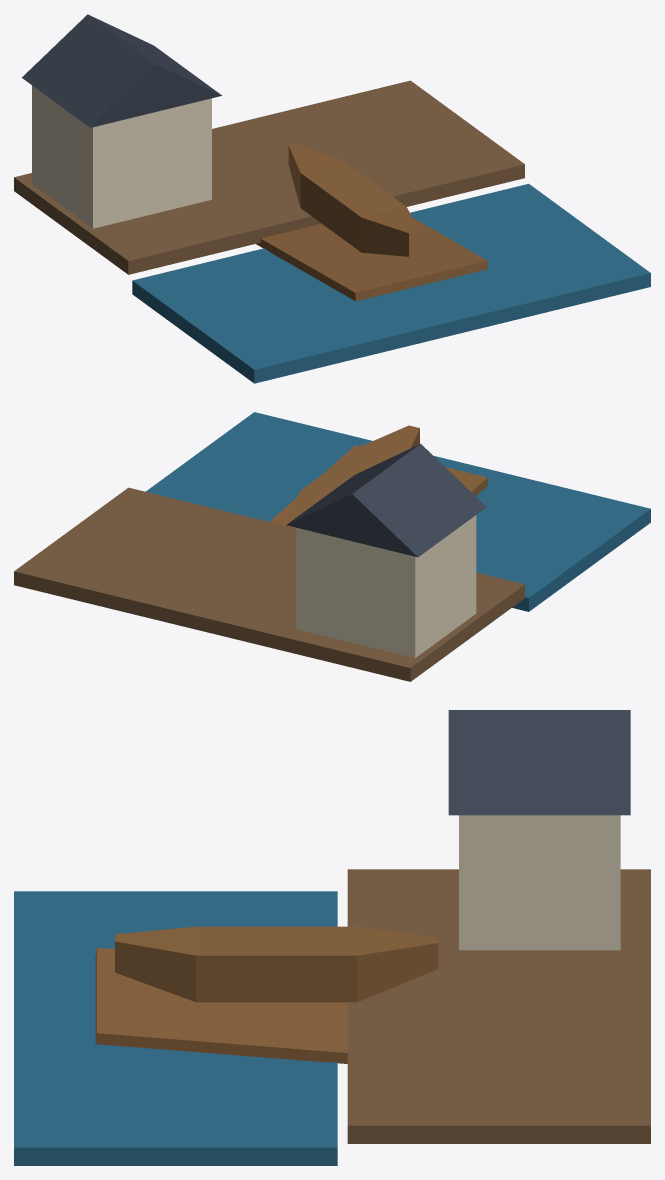
Rendered from bld_special_shipyard_a03_lod2.glb.
3 renders of one model, top to bottom at view 1: azimuth 30°, elevation 25°; view 2: azimuth 150°, elevation 25°; view 3: azimuth 270°, elevation 25°, orthographic. The views are drawn at different scales.
Parts seen in each view (by area): view 1: body; view 2: body; view 3: body.
Boxes of the visible parts, x1=… form: body: x1=14, y1=14, x2=650, y2=383; body: x1=14, y1=412, x2=650, y2=681; body: x1=14, y1=710, x2=650, y2=1165.
Size of the model in its own units: 15 by 6.61 by 15.75.
